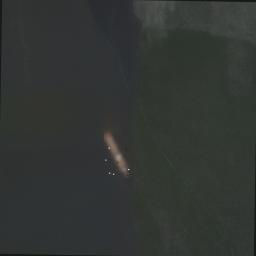boat: (103, 130, 130, 178)
